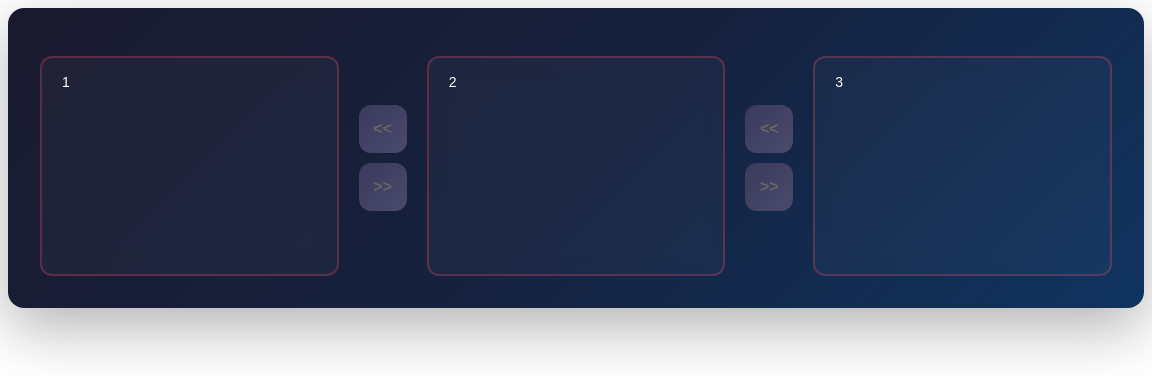
Test case: <TripleSelectBox /> › should enable buttons after selecting items
Expected: the 1st button ">>" is disabled, [359,163,407,211]
Select "1" in the 1st dropdown named "Select options" at [189, 166], box [40,56,339,276]
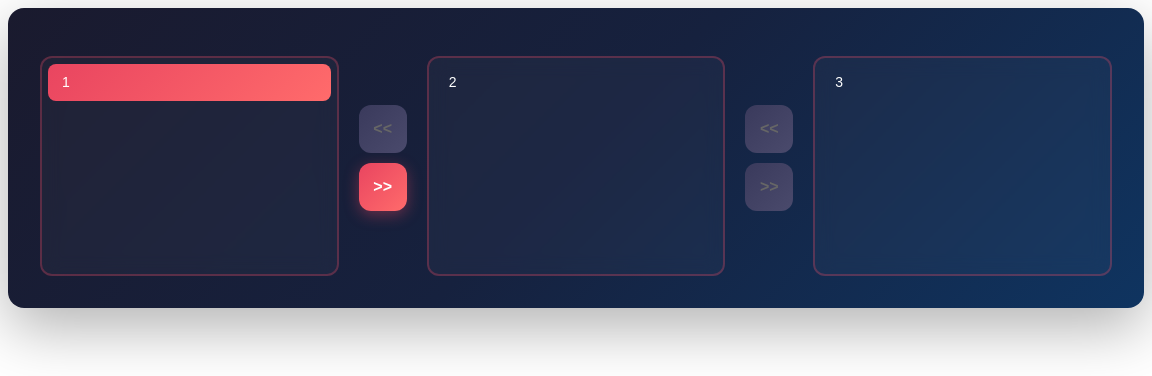
Expected: the 1st button ">>" is enabled, [359,163,407,211]
